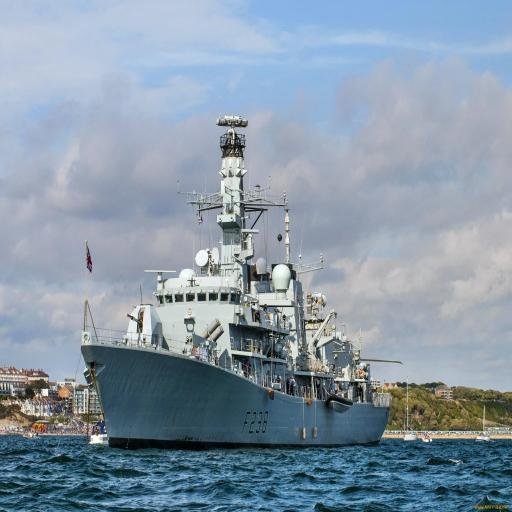Fragata: (61, 109, 380, 460)
